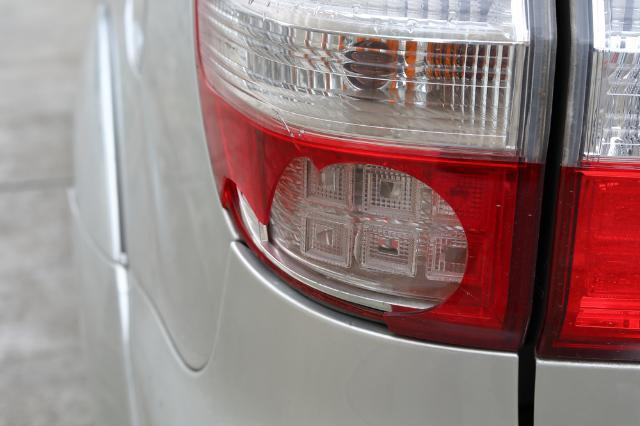lamp broken: (193, 0, 557, 355)
